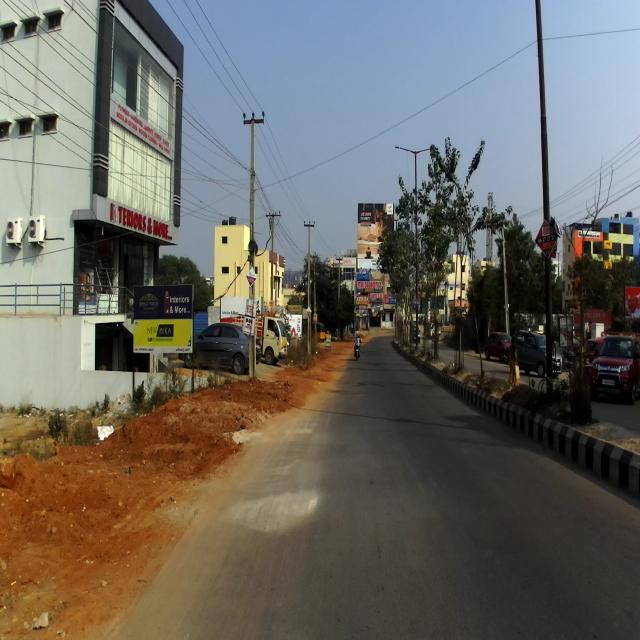electric pole ahead at: (236, 105, 270, 381)
